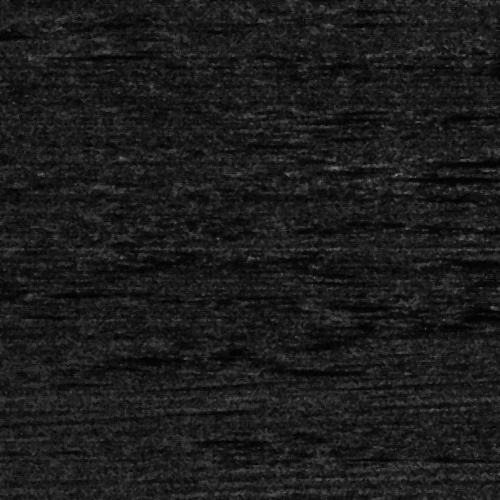object: (356, 156, 471, 165), (215, 366, 308, 371), (355, 174, 418, 181)
shadow: (414, 156, 500, 165), (387, 174, 483, 181), (262, 366, 355, 371)
